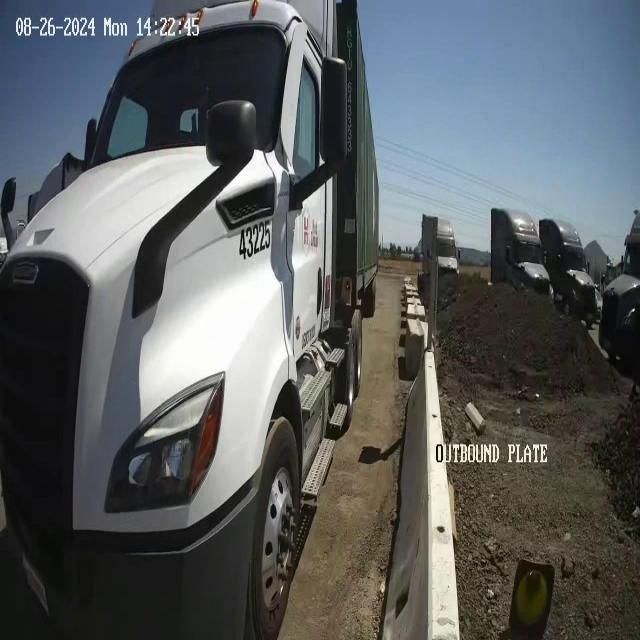TRUCK_OUT: (1, 1, 380, 638)
